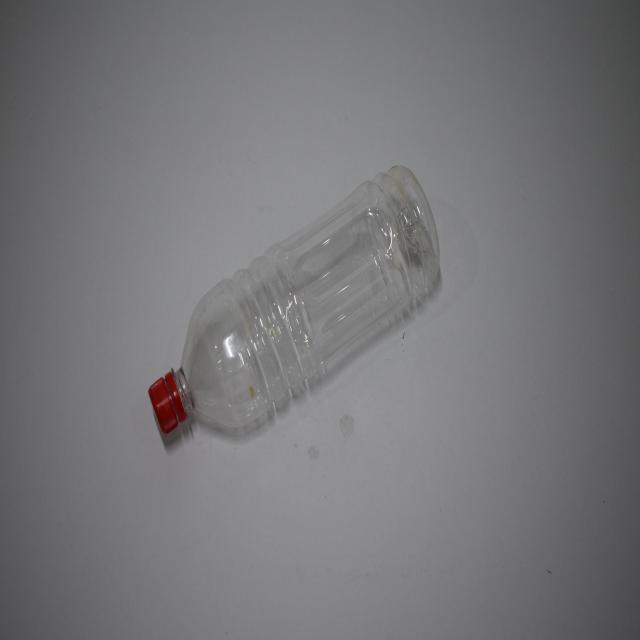empty: (149, 166, 439, 433)
